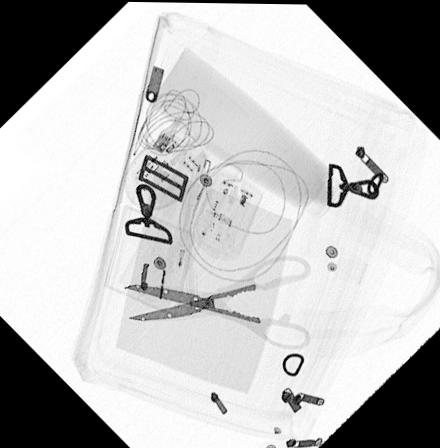Scissors: (121, 251, 313, 349)
